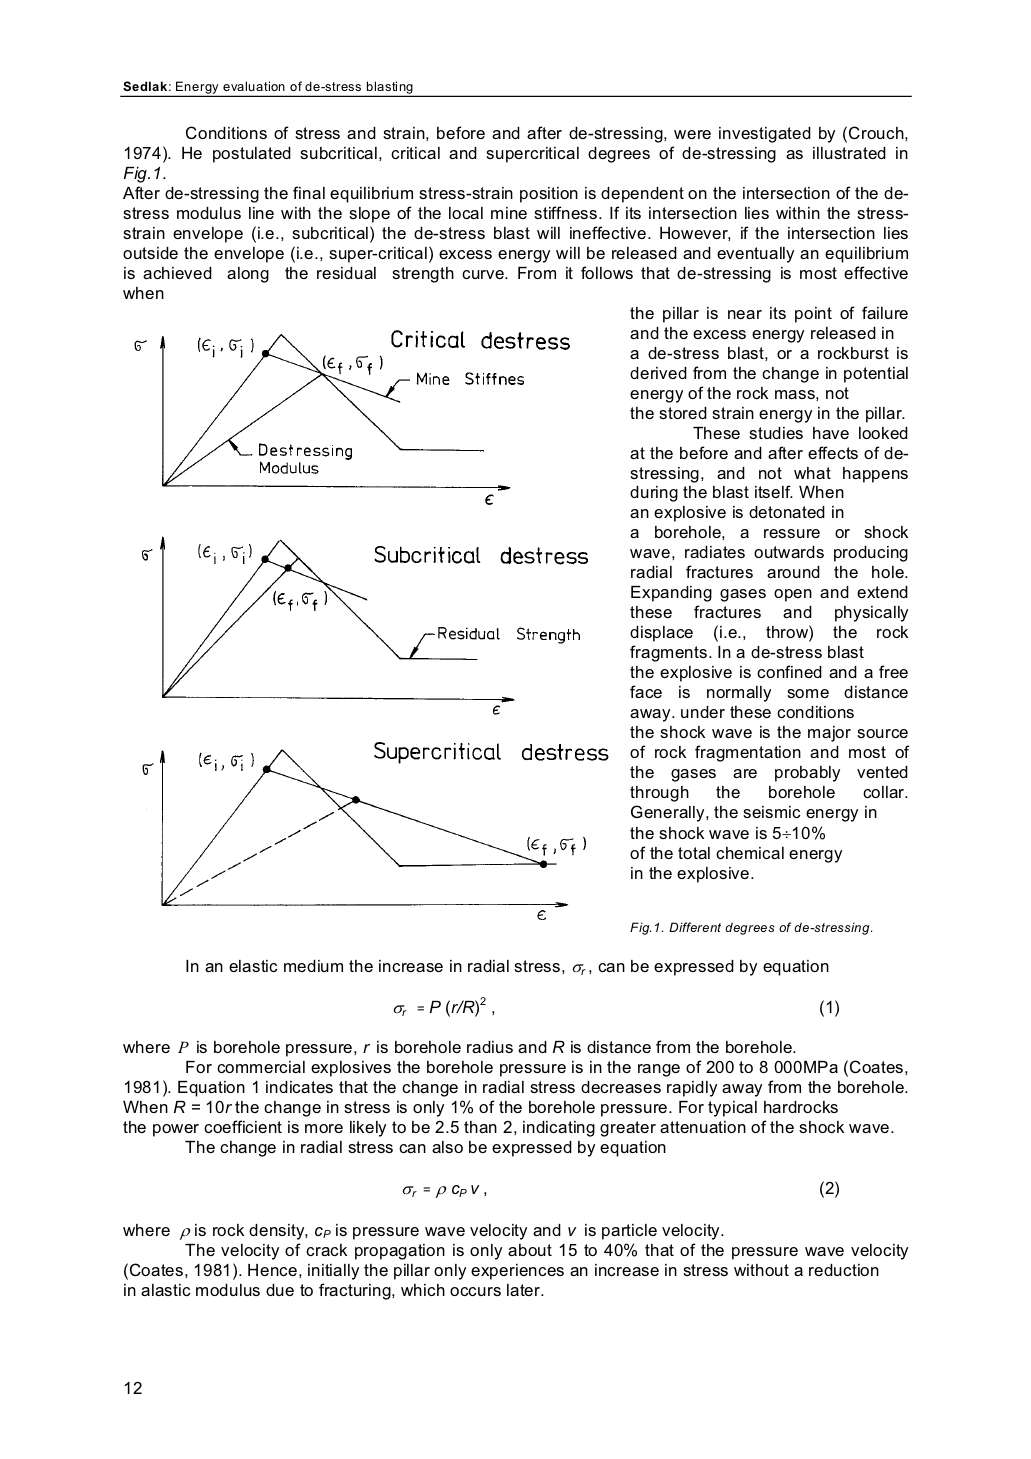figure: (142, 742, 608, 919), (142, 537, 587, 714), (134, 330, 569, 504)
formula: (393, 995, 838, 1017), (402, 1180, 838, 1198)
